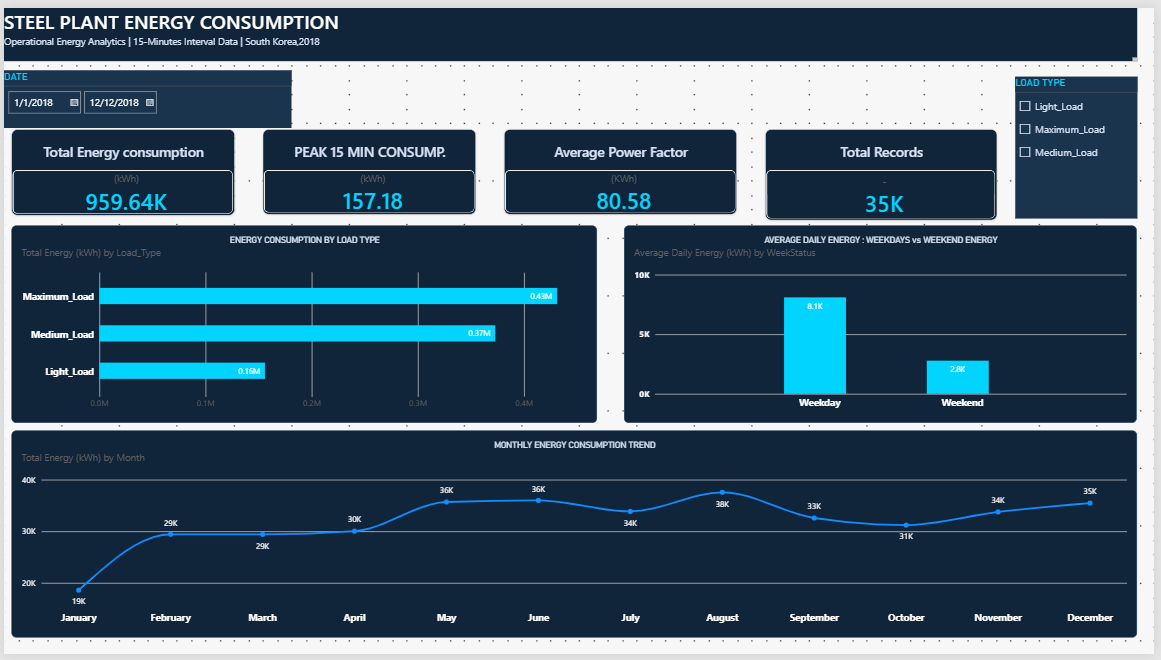

The dashboard page shown, as its layout file describes it:
{"tool":"powerbi","page":{"name":"Page 1","canvas":[1920,1080],"ordinal":0},"visuals":[{"type":"cardVisual","title":"Total Energy consumption","fields":{"Data":["Steel_industry_data.Total Energy (kWh)"]},"box":[12.3,201.7,372.6,144.1],"z":0},{"type":"cardVisual","title":"Average Power Factor","fields":{"Data":["Steel_industry_data.Average Power Factor"]},"box":[834.3,201.7,389,142],"z":1000},{"type":"cardVisual","title":"Total Records","fields":{"Data":["Steel_industry_data.Total Records"]},"box":[1270,201.7,387,152.3],"z":2000},{"type":"cardVisual","title":"PEAK 15 MIN CONSUMP.","fields":{"Data":["Steel_industry_data.Maximum Energy (kWh)"]},"box":[431.6,201.7,356.1,142],"z":3000},{"type":"clusteredBarChart","title":"ENERGY CONSUMPTION BY LOAD TYPE","fields":{"Category":["Steel_industry_data.Load_Type"],"Y":["Steel_industry_data.Total Energy (kWh)"]},"box":[12.3,362.3,977.7,329.3],"z":4000},{"type":"clusteredColumnChart","title":"AVERAGE DAILY ENERGY : WEEKDAYS vs WEEKEND ENERGY","fields":{"Category":["Steel_industry_data.WeekStatus"],"Y":["Steel_industry_data.Average Daily Energy (kWh)"]},"box":[1035.3,362.3,856.3,329.3],"z":5000},{"type":"lineChart","title":"MONTHLY ENERGY CONSUMPTION TREND","fields":{"Category":["Steel_industry_data.Date.Variation.Date Hierarchy.Month"],"Y":["Steel_industry_data.Total Energy (kWh)"]},"box":[12.3,706,1879.3,345.8],"z":6000},{"type":"slicer","title":"DATE","fields":{"Values":["Steel_industry_data.Date"]},"box":[12.3,88.5,480,96],"z":7000},{"type":"slicer","title":"LOAD TYPE","fields":{"Values":["Steel_industry_data.Load_Type"]},"box":[1687.8,115.3,203.8,236.7],"z":8000},{"type":"textbox","title":"STEEL PLANT ENERGY CONSUMPTION","box":[0,0,1891.6,88.5],"z":9000}]}

Visuals, with their boxes in screenshot pixels (x1, y1, x2, y2), scaled from the page's 1920x1080 canvas onto the 1161x660 screenshot:
"Total Energy consumption" cardVisual: 7,123,233,211
"Average Power Factor" cardVisual: 504,123,740,210
"Total Records" cardVisual: 768,123,1002,216
"PEAK 15 MIN CONSUMP." cardVisual: 261,123,476,210
"ENERGY CONSUMPTION BY LOAD TYPE" clusteredBarChart: 7,221,599,423
"AVERAGE DAILY ENERGY : WEEKDAYS vs WEEKEND ENERGY" clusteredColumnChart: 626,221,1144,423
"MONTHLY ENERGY CONSUMPTION TREND" lineChart: 7,431,1144,643
"DATE" slicer: 7,54,298,113
"LOAD TYPE" slicer: 1021,70,1144,215
"STEEL PLANT ENERGY CONSUMPTION" textbox: 0,0,1144,54
